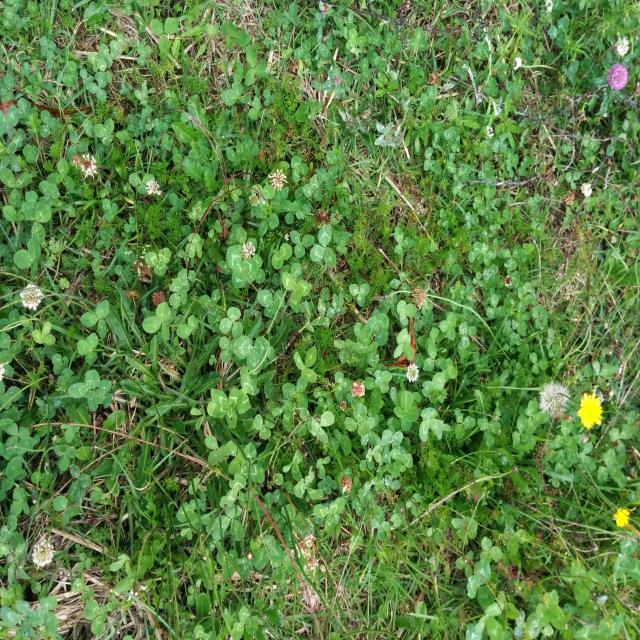Four Leaf Clover: (210, 388, 244, 428)
